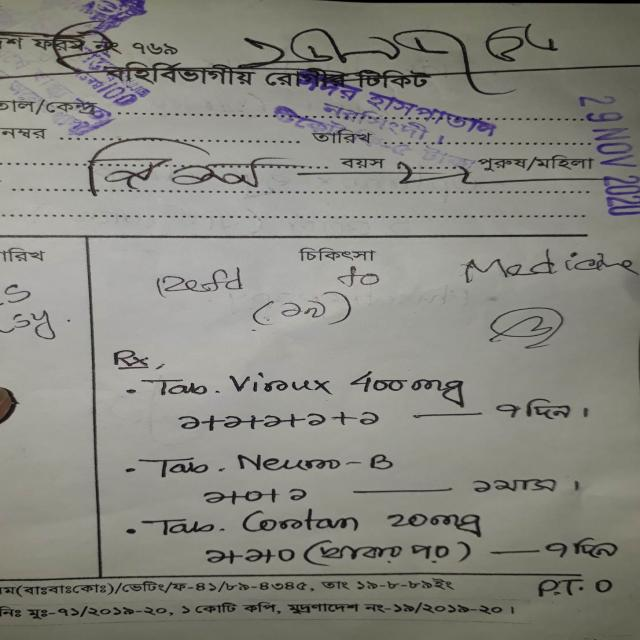Cortan: (234, 509, 367, 536)
Neuro B: (232, 449, 410, 480)
Virux: (215, 366, 337, 401)
